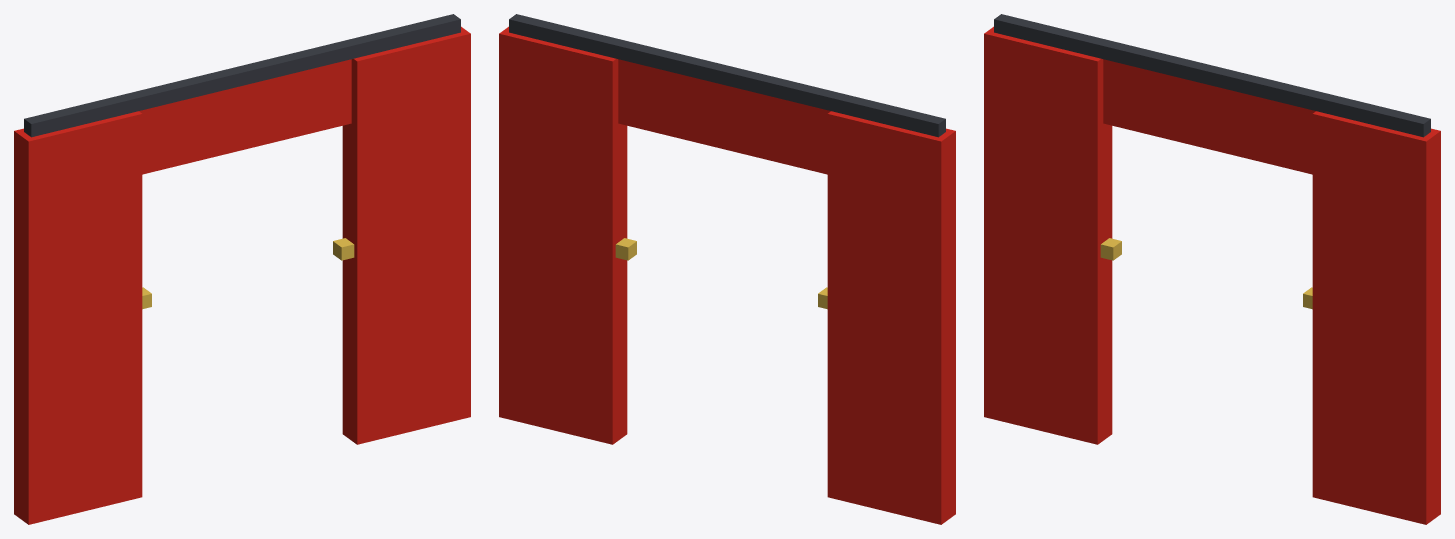
Rendered from curtain_stage.fbx.
The picture shows the model from 3 angles, left to right: view 1: azimuth 30°, elevation 25°; view 2: azimuth 150°, elevation 25°; view 3: azimuth 330°, elevation 25°; orthographic projection.
Parts seen in each view (by area): view 1: curtain_stage; view 2: curtain_stage; view 3: curtain_stage.
Part boxes in pixels (x1,y1,x2,y2): curtain_stage: (14,14,470,524); curtain_stage: (499,14,955,524); curtain_stage: (984,14,1440,524).
Bounding box in the file's own units: 3.5 × 3 × 0.2.
